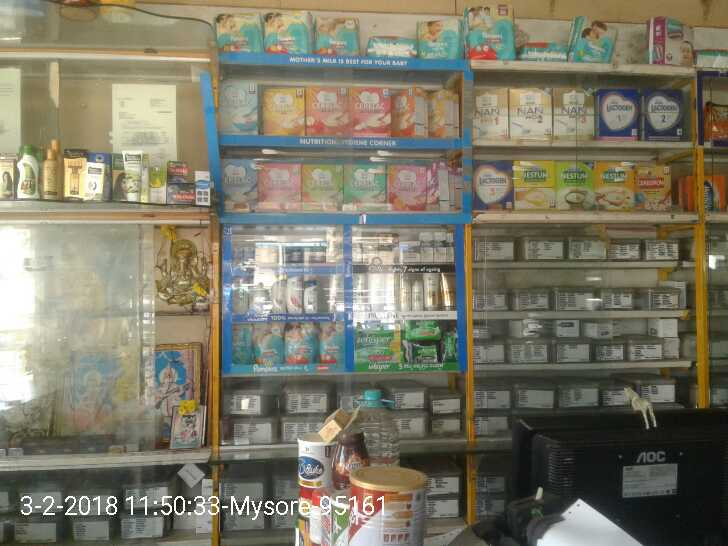beauty: (287, 272, 305, 314), (422, 272, 441, 310), (375, 230, 394, 265), (302, 279, 317, 313), (442, 273, 456, 309), (271, 282, 285, 316), (418, 229, 432, 262), (432, 231, 446, 263), (409, 281, 423, 310), (401, 241, 420, 262), (400, 279, 409, 310)
pharmacy: (467, 1, 511, 59), (259, 9, 311, 57), (314, 15, 360, 58), (215, 10, 261, 52), (413, 14, 459, 56), (280, 320, 317, 362), (253, 319, 283, 365), (353, 324, 408, 348), (316, 322, 342, 364), (230, 324, 255, 362), (354, 349, 407, 364), (410, 344, 442, 363), (408, 319, 440, 337)
